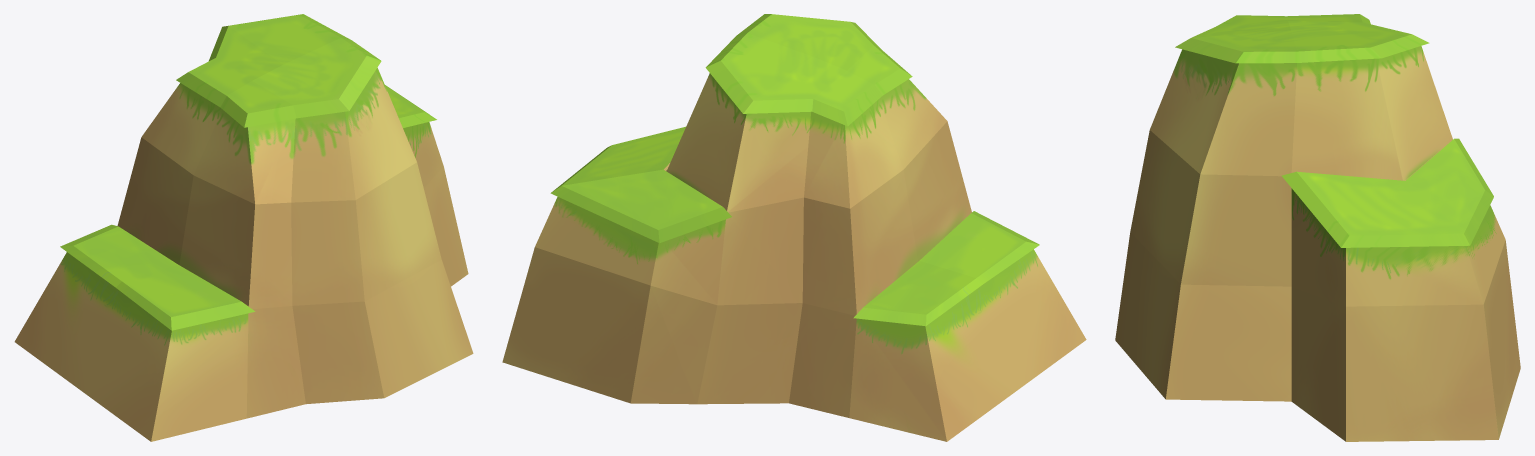
File: Boulder.fbx
The picture shows the model from 3 angles, left to right: view 1: azimuth 30°, elevation 25°; view 2: azimuth 150°, elevation 25°; view 3: azimuth 270°, elevation 25°; orthographic projection. The views are drawn at different scales.
Visible parts, largest first — view 1: Cube; view 2: Cube; view 3: Cube.
Boxes of the visible parts, box(x1,y1,x2,y2) form: Cube: box(14, 14, 473, 441); Cube: box(502, 14, 1086, 441); Cube: box(1115, 14, 1520, 441).
Bounding box in the file's own units: 454 × 306 × 361.
